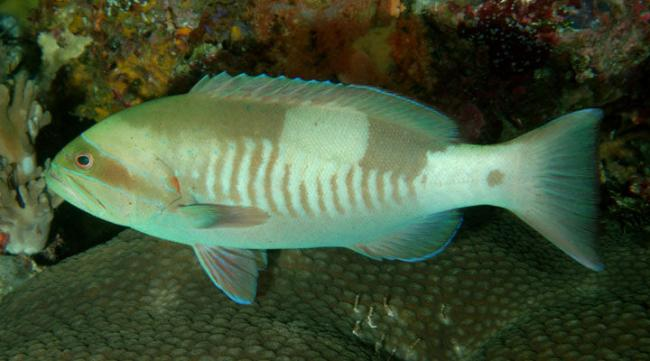fish: (44, 69, 607, 306)
